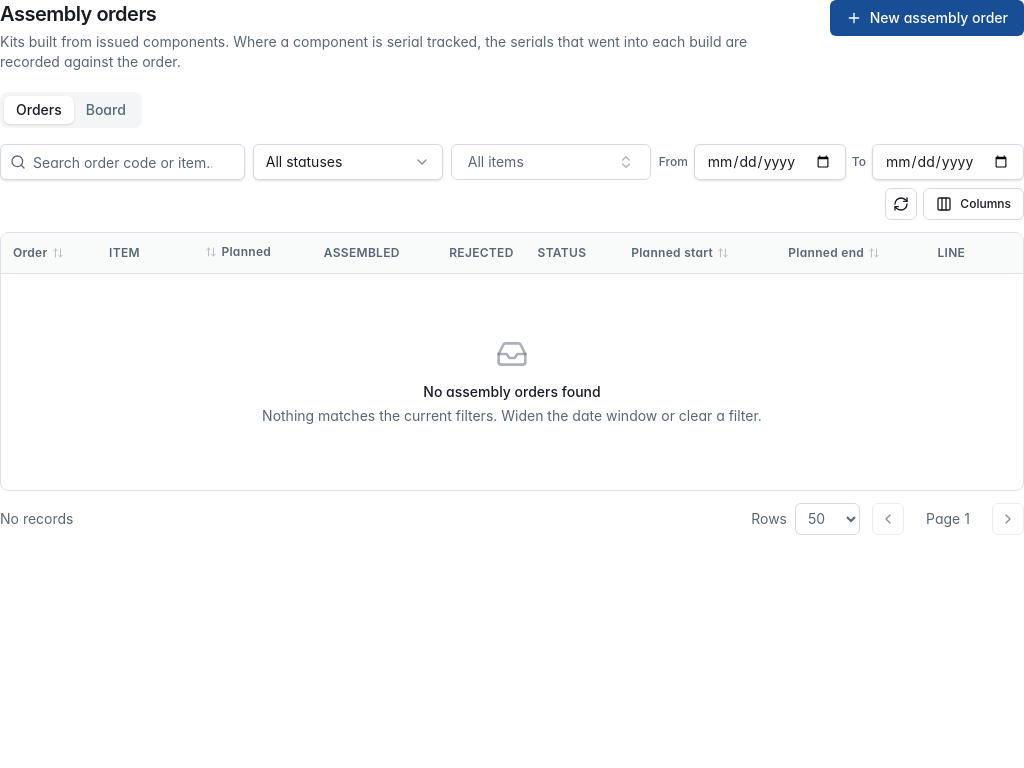
Test case: raising an assembly order › narrows the item search to what the endpoint would accept
This screenshot has width=1024, height=768.
Click the button "New assembly order": {"x": 927, "y": 18} [830, 0, 1023, 36]
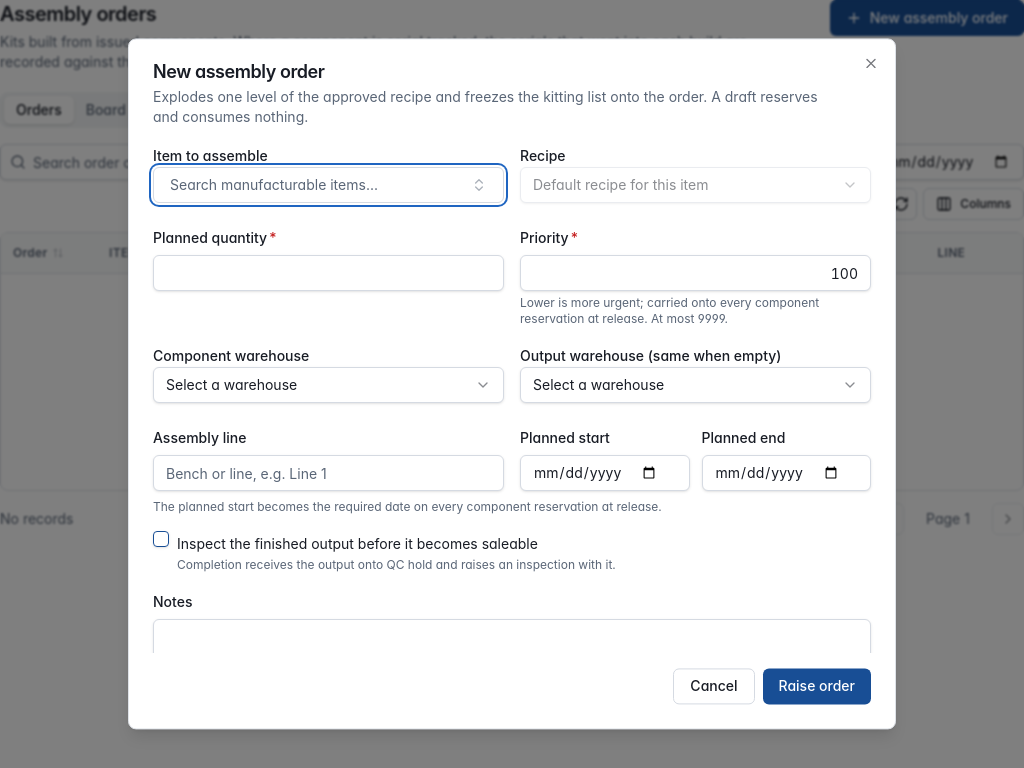
Click the dropdown named "Item to assemble": {"x": 328, "y": 185} [153, 167, 504, 203]
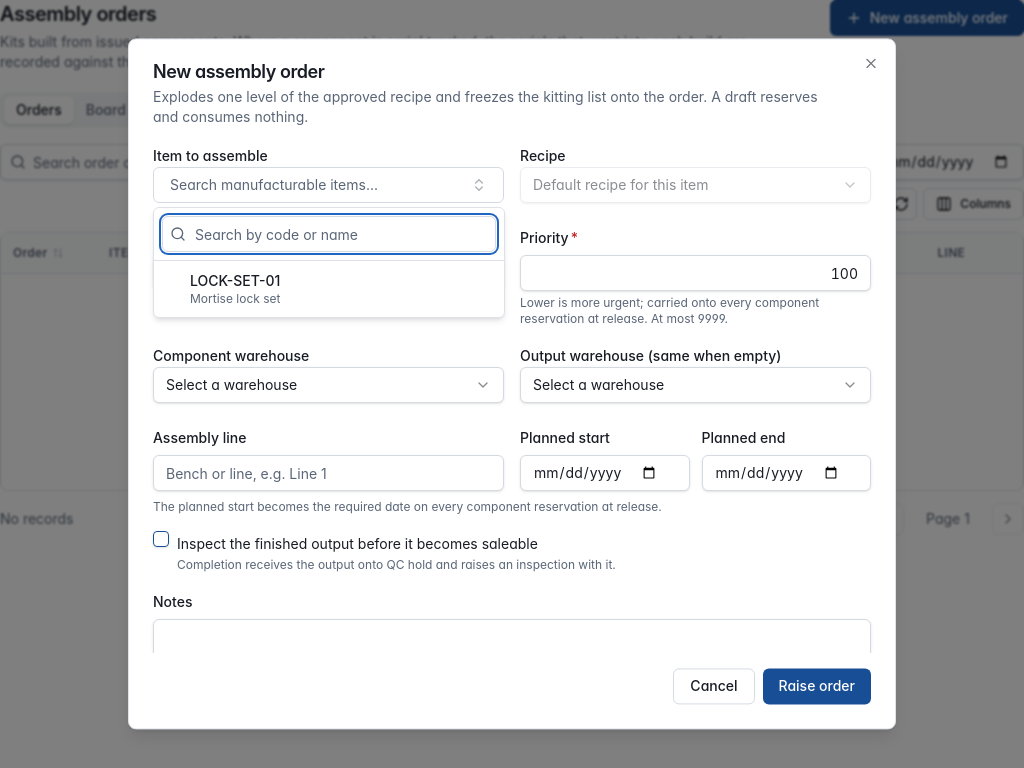
Expected: the option "LOCK-SET-01 Mortise lock set" is shown, [158, 265, 500, 313]
